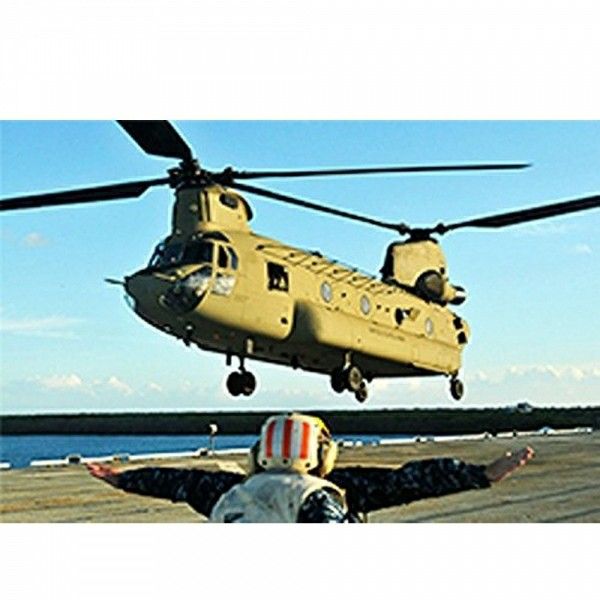chinook: (44, 121, 580, 403)
